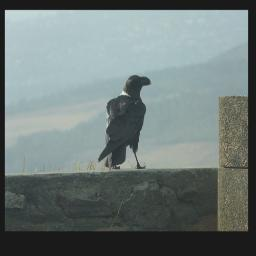Crow: (97, 74, 153, 170)
